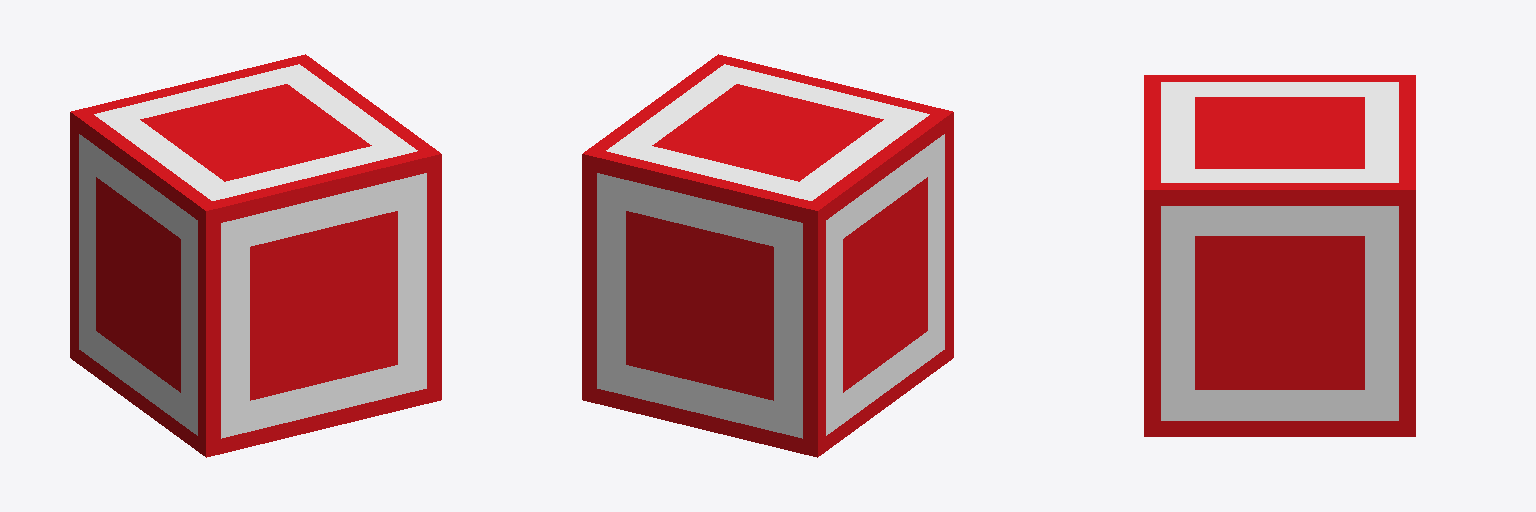
The picture shows the model from 3 angles: view 1: azimuth 30°, elevation 25°; view 2: azimuth 150°, elevation 25°; view 3: azimuth 270°, elevation 25°; orthographic projection.
Visible parts, largest first — view 1: cube; view 2: cube; view 3: cube.
Part boxes in pixels (left/top/right/bottom): cube: left=70, top=54, right=441, bottom=457; cube: left=582, top=54, right=953, bottom=457; cube: left=1144, top=75, right=1415, bottom=436.
Size of the model in its own units: 1 by 1 by 1.
1 materials, 1 textured.